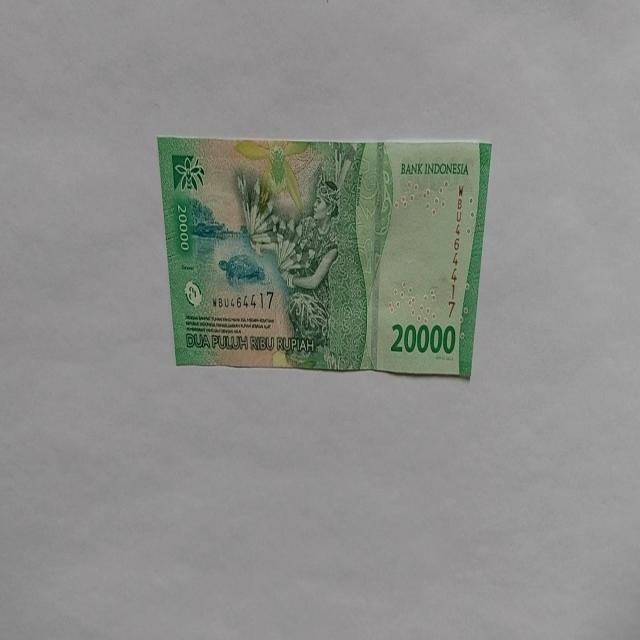dua puluh ribu rupiah: (156, 134, 492, 380)
